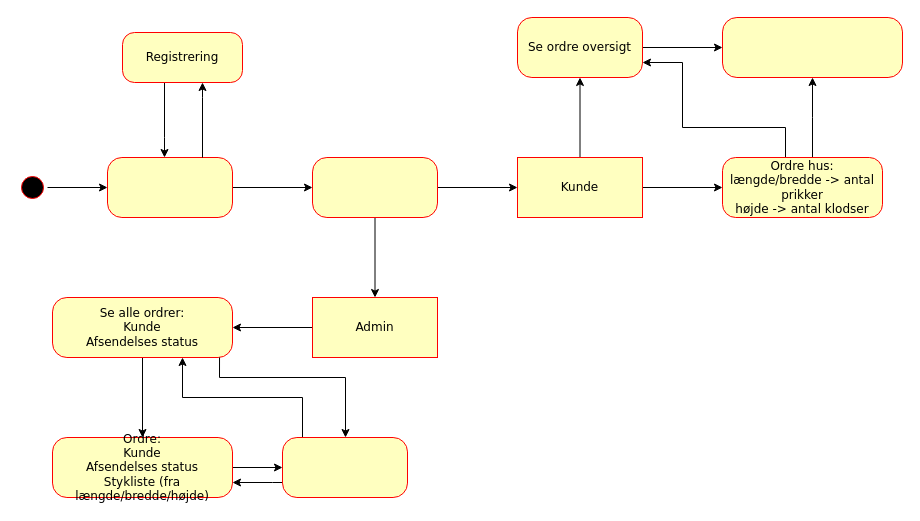
Image size: 920x521. Some labels were removed from this diagram. The box of each missing label's shape, as (x1, y1, x2, y2) in pixels:
Login: (106, 156, 232, 218)
Markere ordre som afsendt: (282, 436, 408, 498)
Ordre: afsendelses status Stykliste (fra længde/bredde/højde): (722, 16, 902, 78)
Validering: (312, 156, 438, 218)
